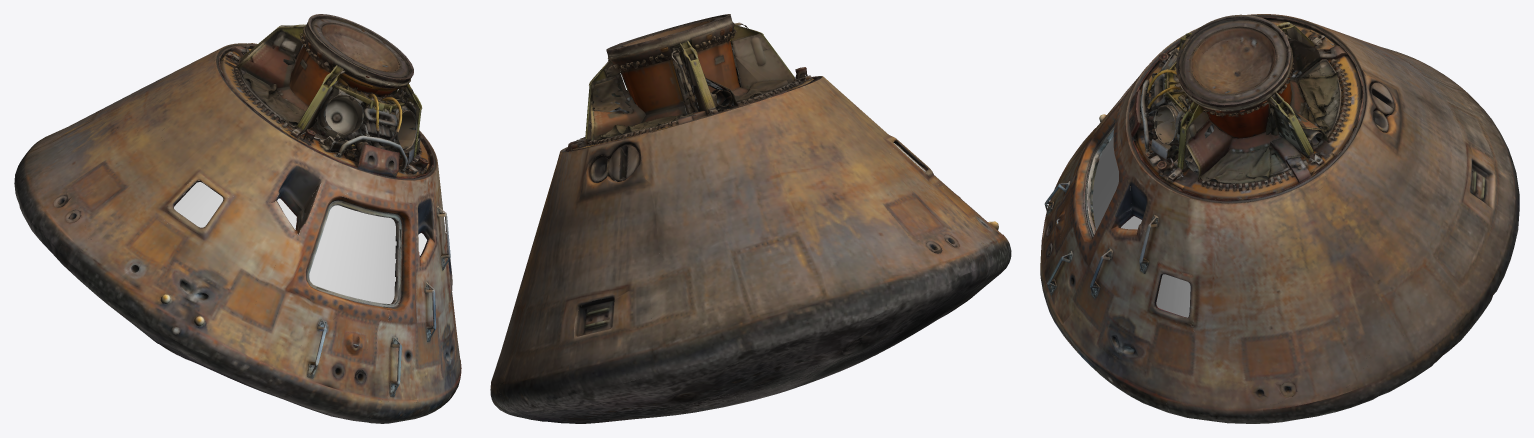
The model's file is command_module_apollo_11.glb.
The picture shows the model from 3 angles, left to right: view 1: azimuth 30°, elevation 25°; view 2: azimuth 150°, elevation 25°; view 3: azimuth 270°, elevation 25°; orthographic projection. The views are drawn at different scales.
Visible parts, largest first — view 1: x3d-cm-exterior-shell-90k-uvs-150k-unwrapped, x3d-cm-exterior-top-160k-uvs-150k-unwrapped, x3d-cm-exterior-filler; view 2: x3d-cm-exterior-shell-90k-uvs-150k-unwrapped, x3d-cm-exterior-top-160k-uvs-150k-unwrapped; view 3: x3d-cm-exterior-shell-90k-uvs-150k-unwrapped, x3d-cm-exterior-top-160k-uvs-150k-unwrapped, x3d-cm-exterior-filler.
Boxes of the visible parts, x1,y1,x2,y2 form: x3d-cm-exterior-shell-90k-uvs-150k-unwrapped: (14,43,461,423); x3d-cm-exterior-top-160k-uvs-150k-unwrapped: (216,14,435,180); x3d-cm-exterior-filler: (174,180,426,317); x3d-cm-exterior-shell-90k-uvs-150k-unwrapped: (490,76,1011,423); x3d-cm-exterior-top-160k-uvs-150k-unwrapped: (563,14,819,151); x3d-cm-exterior-shell-90k-uvs-150k-unwrapped: (1040,14,1519,423); x3d-cm-exterior-top-160k-uvs-150k-unwrapped: (1128,14,1365,203); x3d-cm-exterior-filler: (1092,91,1190,317).
Bounding box in the file's own units: 359 × 314 × 387.
Materials: 3 (2 with a texture image).
